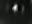person: (12, 4, 19, 15), (22, 6, 26, 17)
